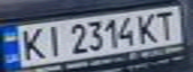1: (103, 16, 121, 48)
2: (66, 20, 90, 55)
3: (84, 18, 106, 52)
4: (115, 14, 139, 47)
I: (39, 23, 66, 57)
K: (15, 25, 48, 62), (133, 10, 163, 44)
T: (151, 7, 181, 40)
